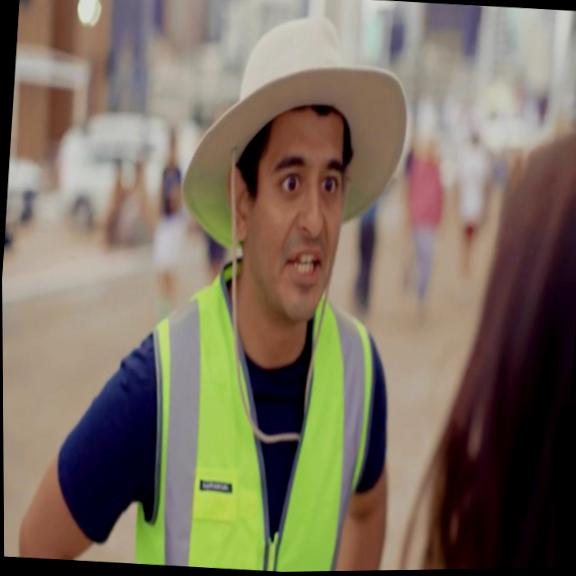safety_vest: (130, 248, 385, 574)
